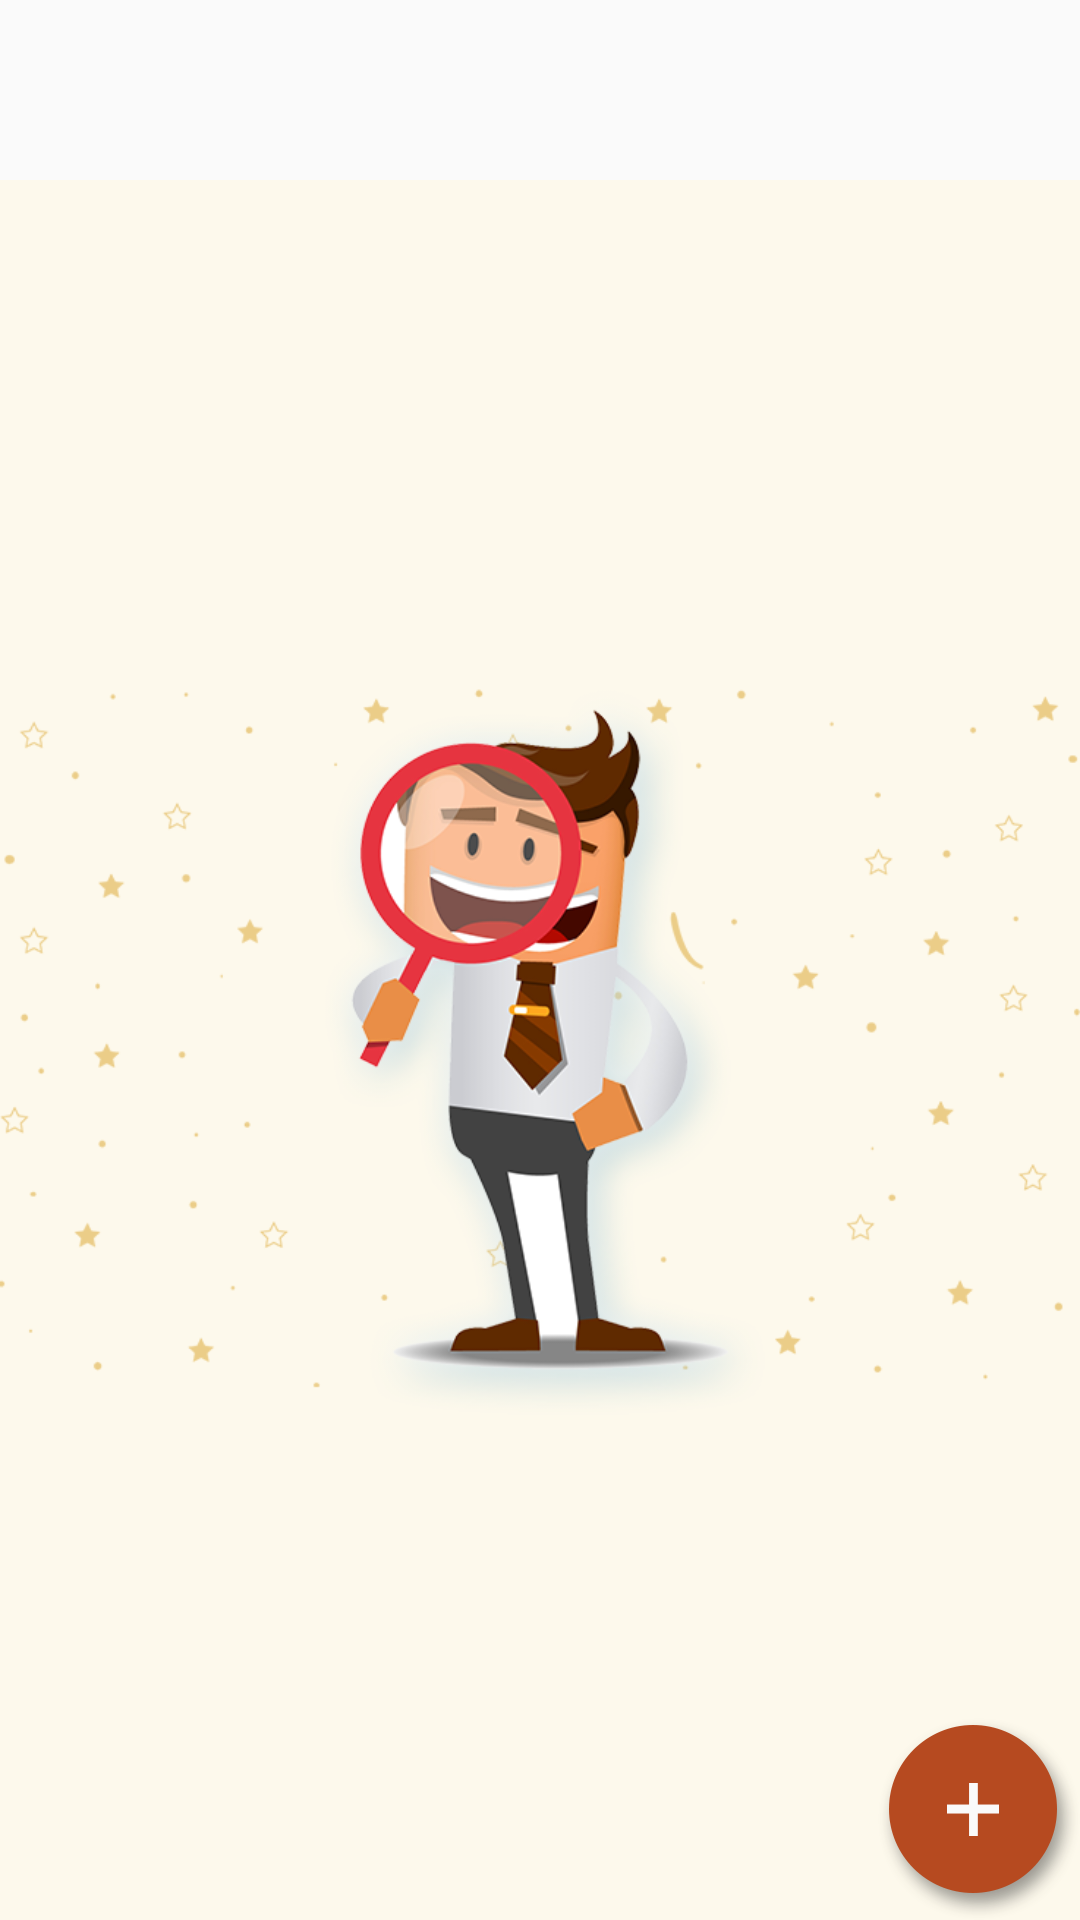

Named icons in this screenshot (1080px×1920px) and their bounding boxes, (x1, y1, x2, y2):
add: (889, 1725, 1068, 1908)
